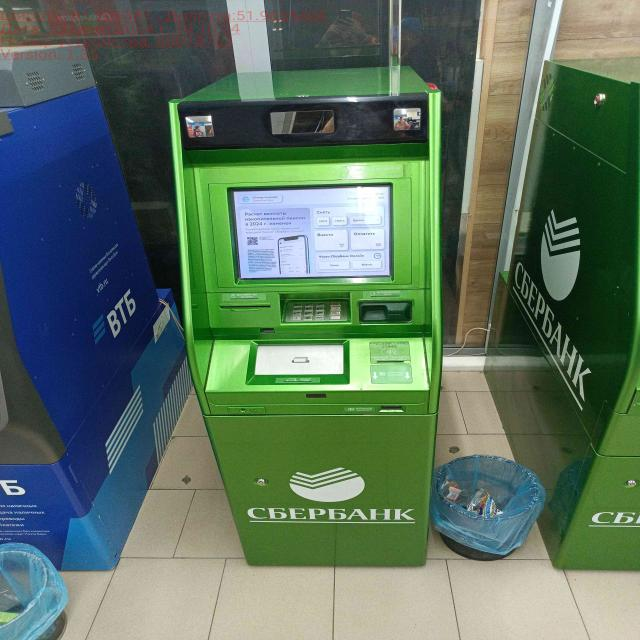bank: (168, 71, 450, 574), (486, 61, 640, 574)
